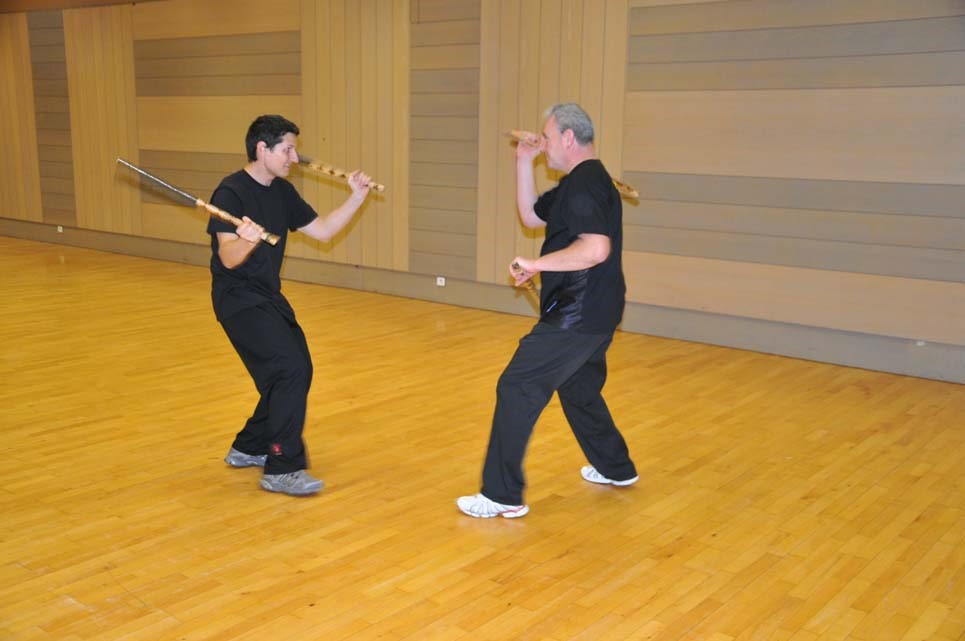baston_e: (120, 155, 270, 244), (514, 128, 634, 198), (301, 155, 380, 193), (512, 268, 543, 309)
baston_v: (264, 230, 284, 249), (110, 154, 126, 170), (630, 184, 642, 200), (506, 125, 517, 140), (377, 181, 387, 196), (510, 258, 521, 268)
